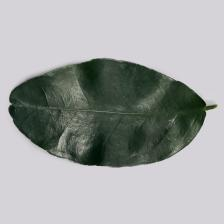healthy: (7, 57, 207, 168)
